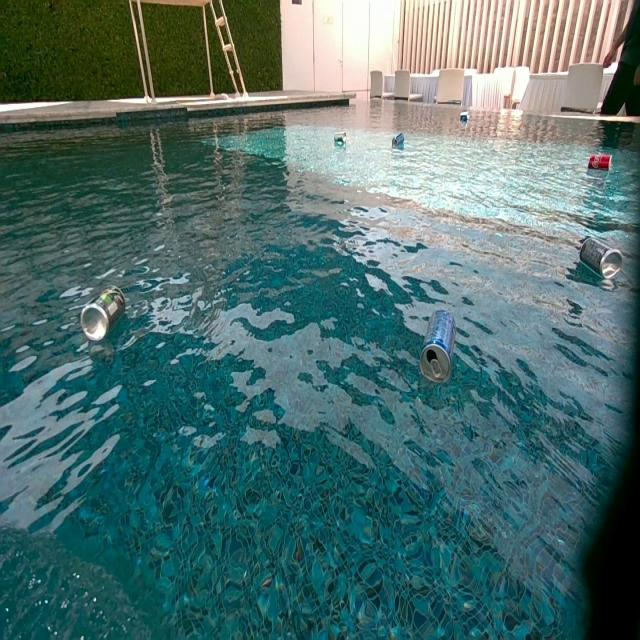Cans: (419, 307, 457, 385), (81, 288, 126, 343), (576, 232, 624, 282), (589, 156, 610, 172), (392, 134, 405, 147), (336, 134, 348, 148), (459, 112, 468, 122)
